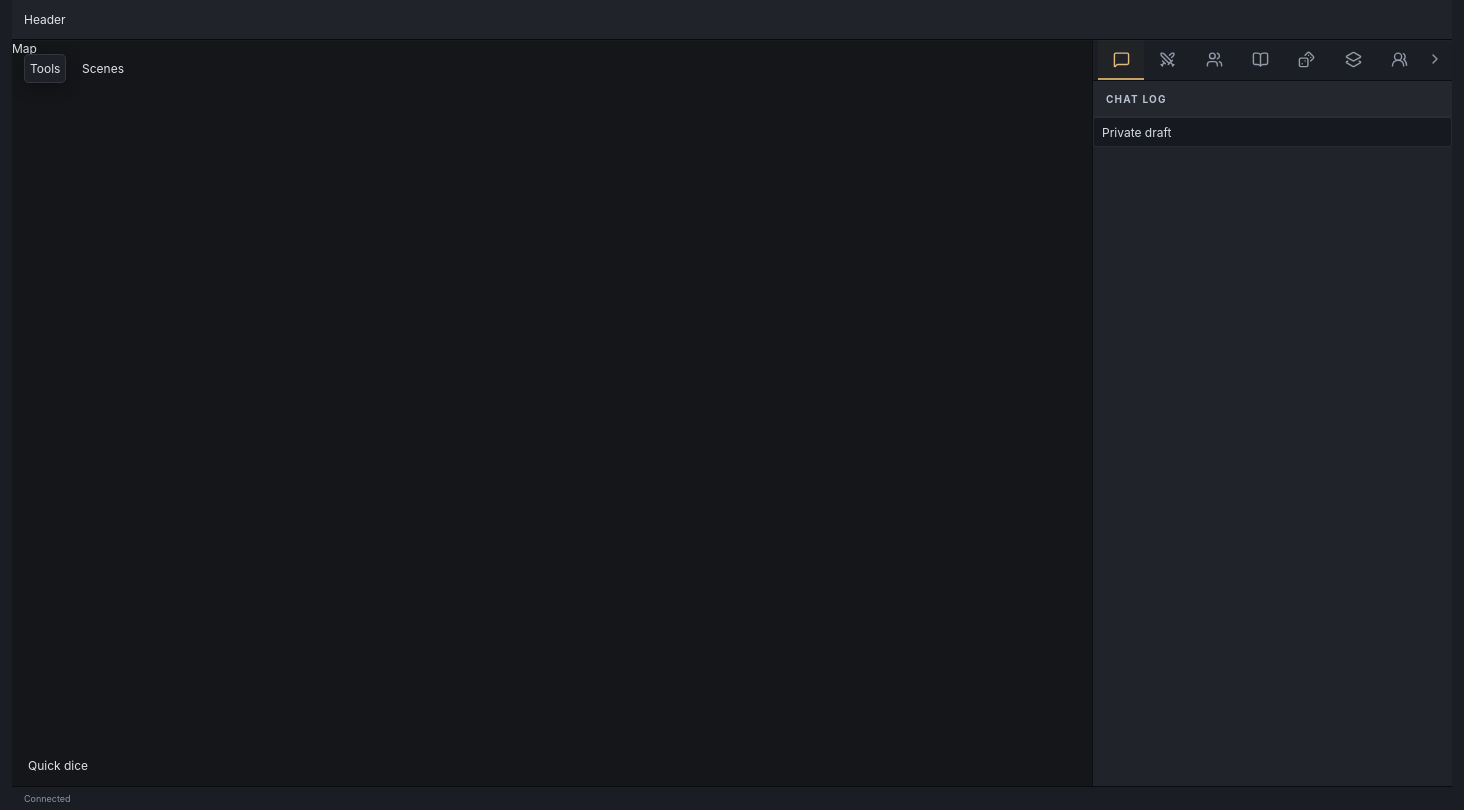
Scenario: resizes with keyboard and keeps a private draft mounted while the sidebar is collapsed
Press ArrowLeft in the element named "Sidebar width", box [1089,40,1096,786]
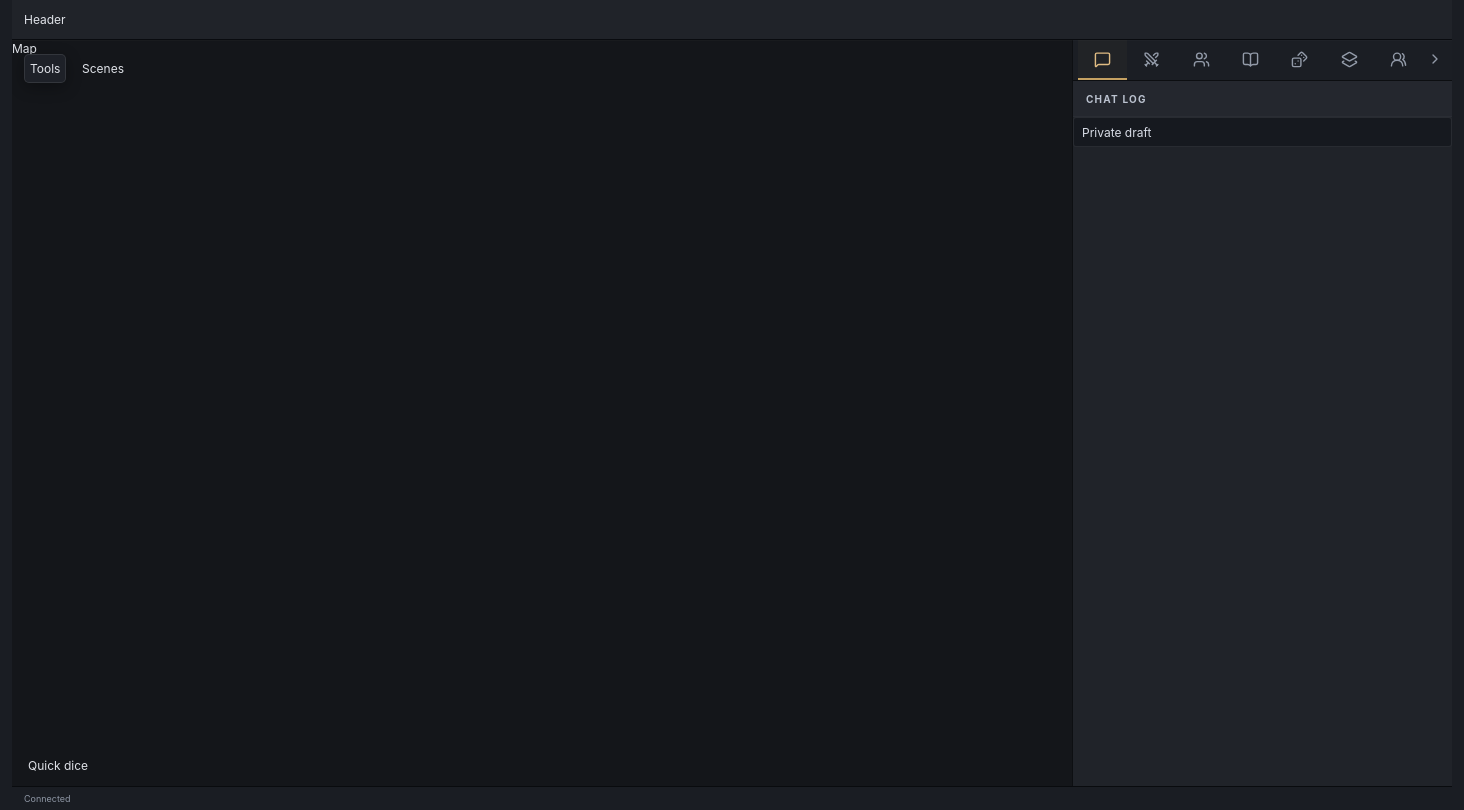
Click the button named "Collapse sidebar".
click(1435, 60)  # box [1423,40,1447,80]
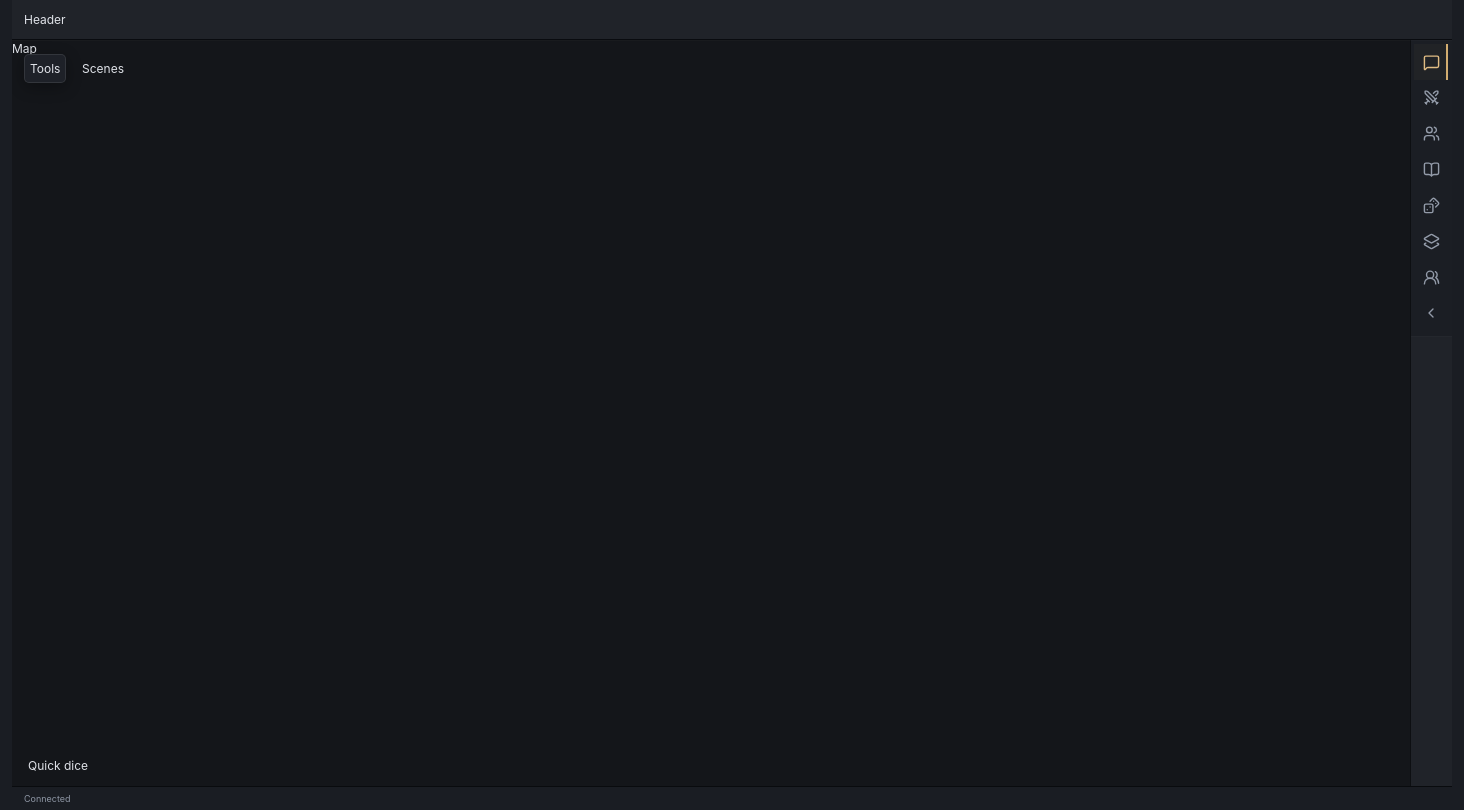
Click the button named "Expand sidebar".
click(1431, 314)  # box [1414,296,1448,332]
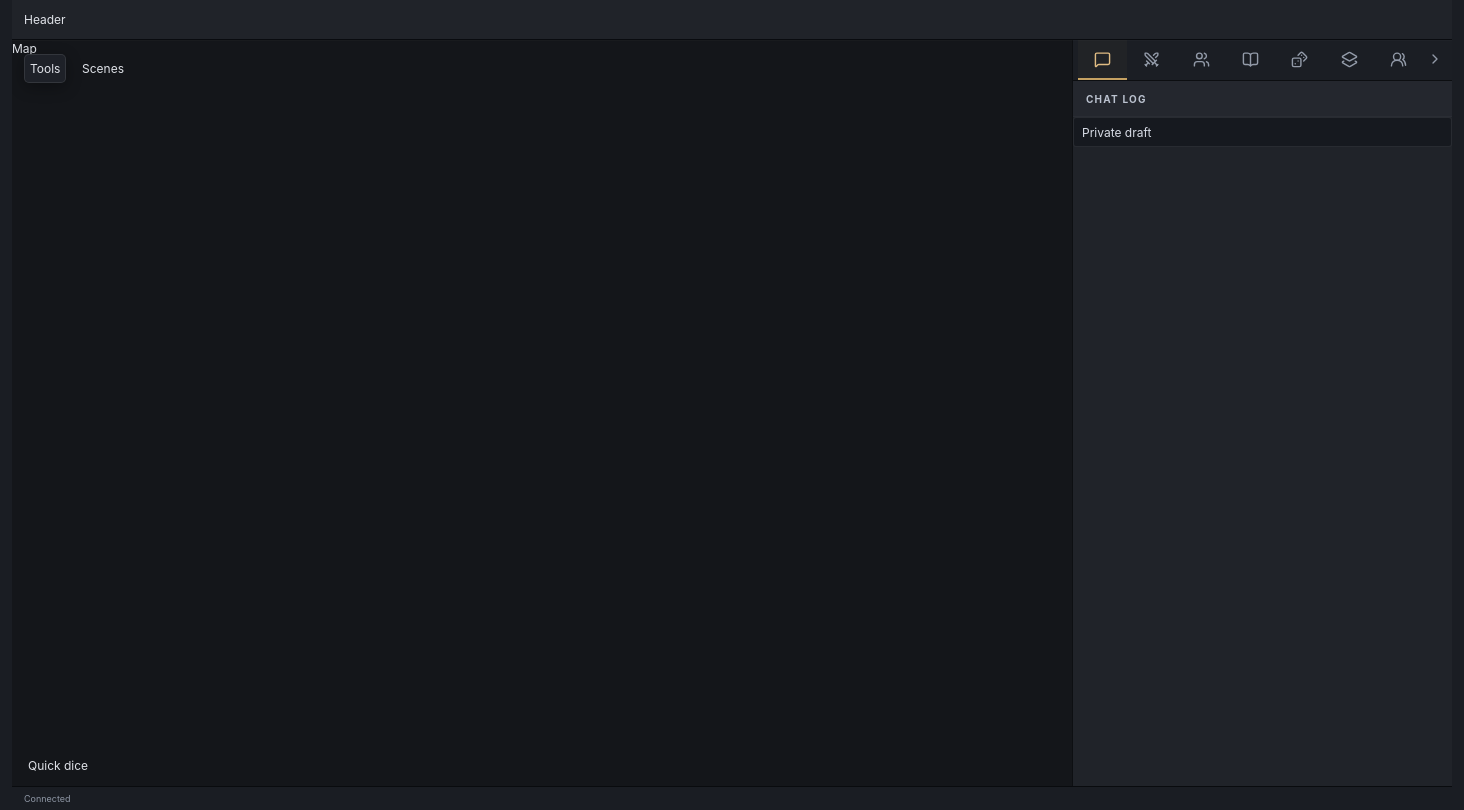
Result: the field named "Private draft" holds "Private draft" at [1073,117,1452,147]
